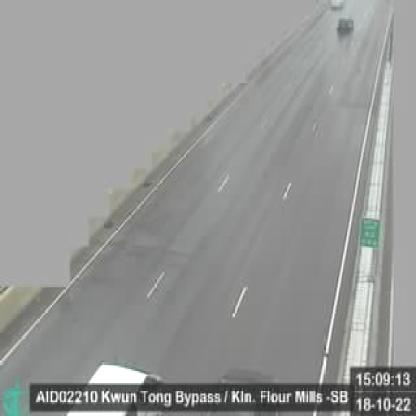Car: (337, 15, 355, 34)
